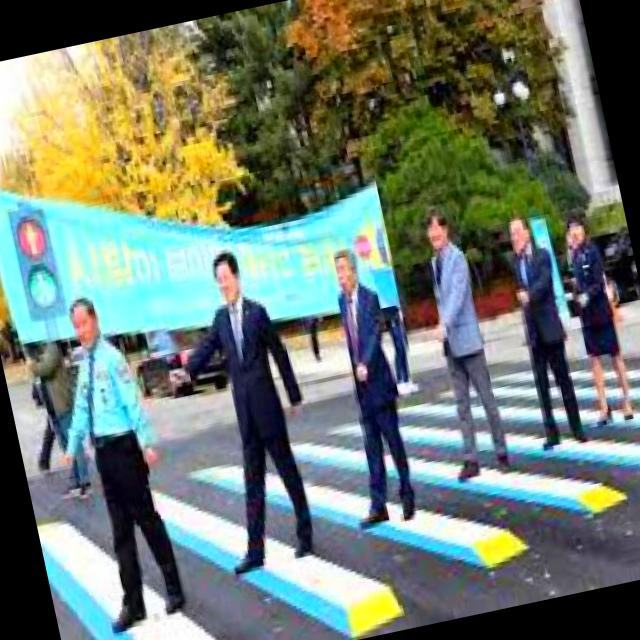Person: (153, 244, 330, 576), (35, 290, 189, 634), (310, 245, 426, 533), (402, 203, 514, 487), (497, 209, 589, 453), (553, 210, 638, 427)
